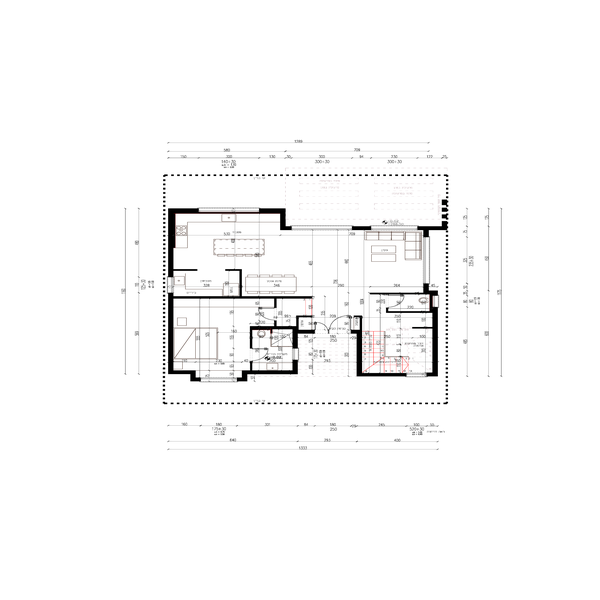door: (315, 314, 348, 335), (384, 292, 405, 314), (255, 305, 282, 320)
room: (167, 201, 322, 300), (160, 294, 297, 381), (357, 291, 437, 376)
wall: (177, 294, 313, 300), (167, 292, 176, 372), (433, 305, 440, 374), (167, 206, 173, 277), (357, 325, 364, 376), (243, 370, 297, 376), (261, 206, 282, 216), (423, 226, 446, 233)
window: (198, 207, 256, 214), (373, 225, 416, 234), (199, 376, 241, 385), (293, 224, 350, 229), (406, 370, 427, 379)
